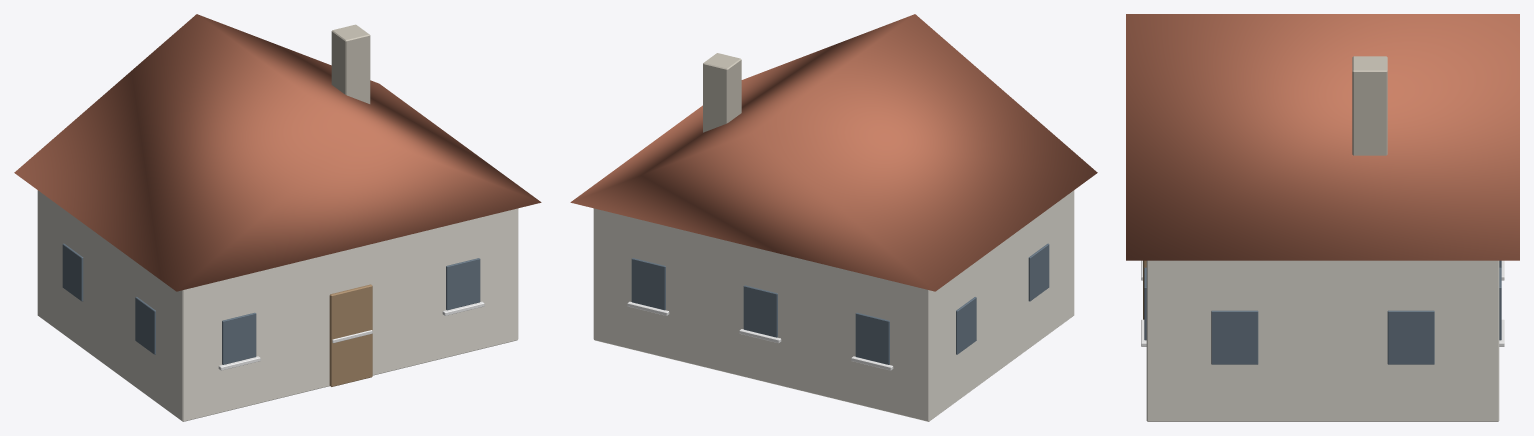
Rendered from house_cottage.glb.
The picture shows the model from 3 angles, left to right: view 1: azimuth 30°, elevation 25°; view 2: azimuth 150°, elevation 25°; view 3: azimuth 270°, elevation 25°; orthographic projection. The views are drawn at different scales.
Visible parts, largest first — view 1: house_cottage; view 2: house_cottage; view 3: house_cottage.
Boxes of the visible parts, bbox=[...] form: house_cottage: bbox=[14, 14, 541, 421]; house_cottage: bbox=[570, 14, 1097, 421]; house_cottage: bbox=[1126, 14, 1519, 421].
Size of the model in its own units: 8.7 by 5.9 by 6.7.
